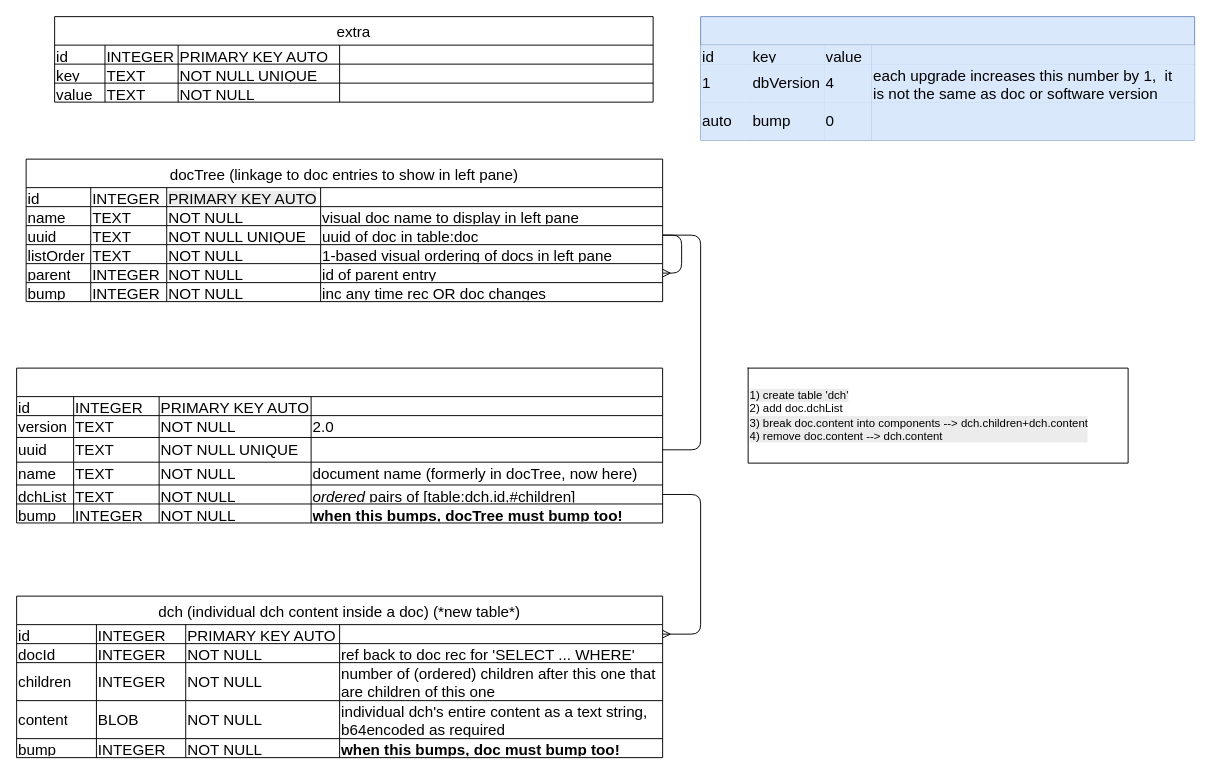
Some shapes in this 1211 by 774 pixel diagram are drawn without their labels. Here are the shapes that lost their labels. From the top down, the box of each, then its label:
(700, 16, 1195, 140): initial values
(16, 367, 663, 523): doc (one entire document)
